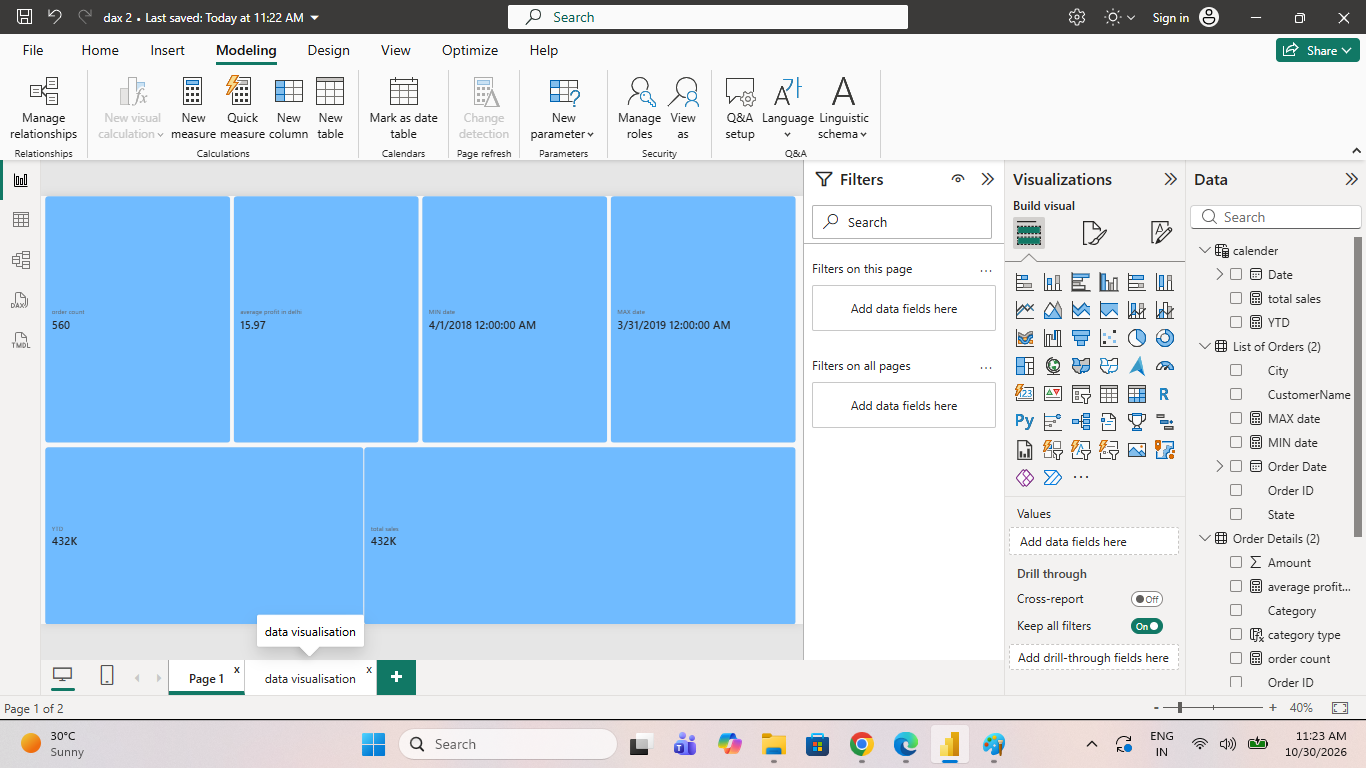

Layout of this report page (visuals, bound fields, positions):
{"tool":"powerbi","page":{"name":"Page 1","canvas":[1920,1080],"ordinal":0},"visuals":[{"type":"cardVisual","fields":{"Data":["Order Details (2).order count","Order Details (2).average profit in delhi","List of Orders (2).MIN date","List of Orders (2).MAX date"]},"box":[10.1,0,1892.3,622.4],"z":0},{"type":"cardVisual","fields":{"Data":["calender.YTD"]},"box":[10.1,632.4,803.8,448.5],"z":1},{"type":"cardVisual","fields":{"Data":["calender.total sales"]},"box":[813.9,632.4,1088.5,448.5],"z":2}]}

Visuals, with their boxes on the page's 1920x1080 design canvas (x1, y1, x2, y2). These are canvas units, not pixel positions in the 1366x768 screenshot, which may show the page scaled, cropped or inside an application window:
cardVisual - Order Details (2).order count x Order Details (2).average profit in delhi: bbox=(10, 0, 1902, 622)
cardVisual - calender.YTD: bbox=(10, 632, 814, 1081)
cardVisual - calender.total sales: bbox=(814, 632, 1902, 1081)
